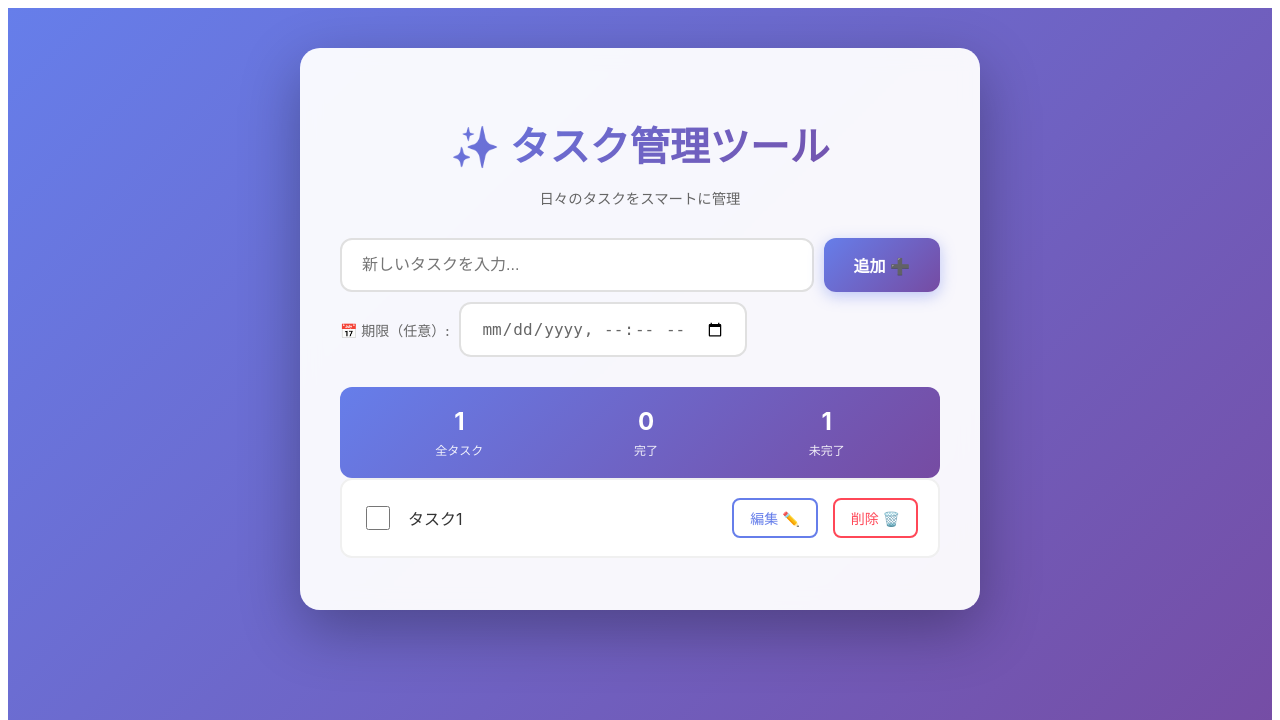
Test: App Component Tests › タスクの編集機能 › 編集ボタンをクリックすると編集モードになる
The image size is (1280, 720).
Expected: the text "タスク1" is shown, [408, 509, 462, 529]
Click the button "編集 ✏️" at (775, 518), box [732, 498, 818, 538]
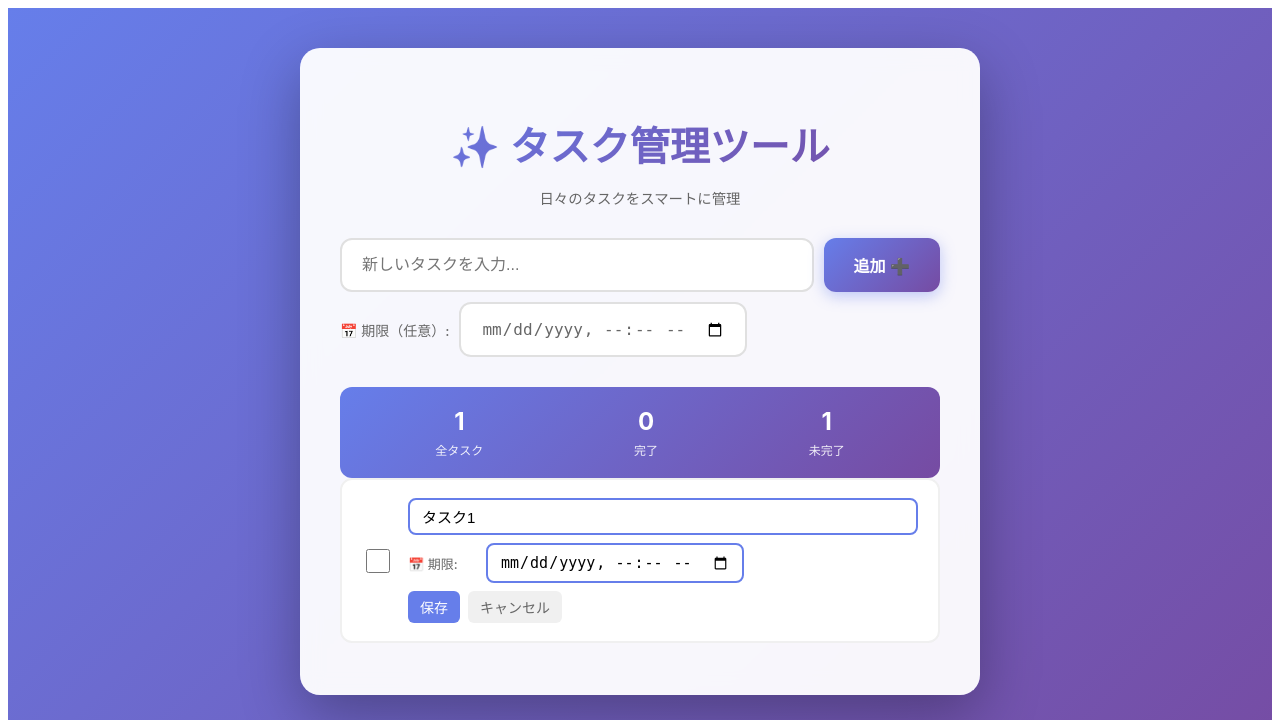
Expected: the button "保存" is shown, [408, 591, 460, 623]
Expected: the button "キャンセル" is shown, [468, 591, 562, 623]
